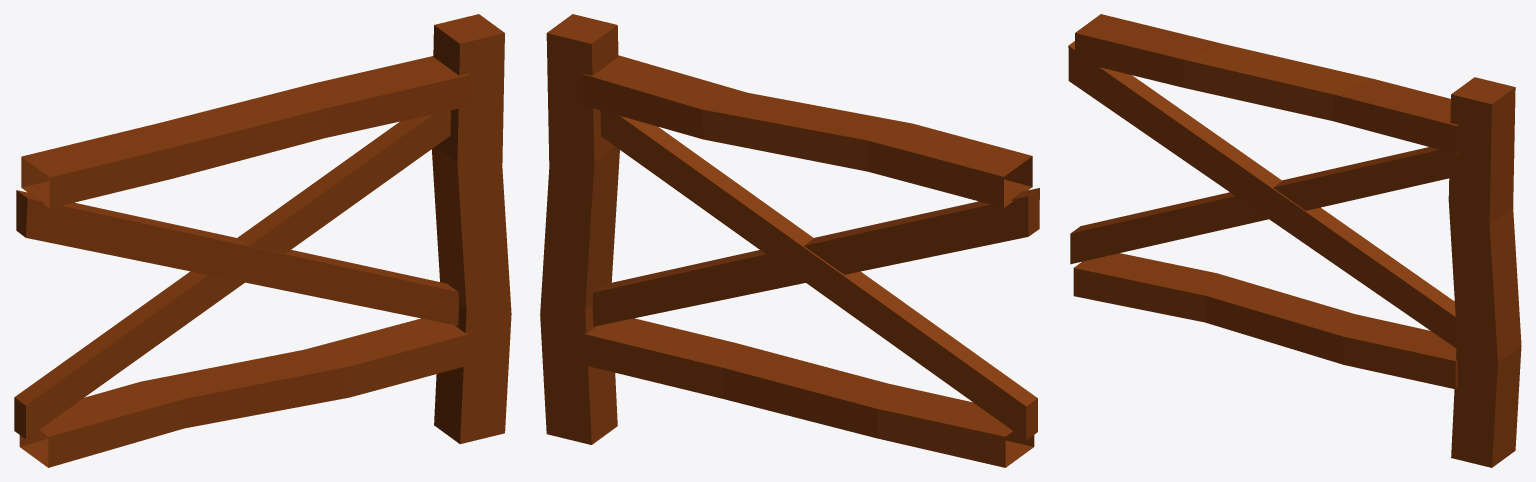
File: mod_fence.fbx
3 views of the same model, side by side, from view 1: azimuth 30°, elevation 25°; view 2: azimuth 150°, elevation 25°; view 3: azimuth 330°, elevation 25° (orthographic). The views are drawn at different scales.
Visible parts, largest first — view 1: Cube.028; view 2: Cube.028; view 3: Cube.028.
Part boxes in pixels (x1,y1,x2,y2): Cube.028: (14, 14, 511, 467); Cube.028: (540, 14, 1039, 467); Cube.028: (1068, 14, 1521, 467).
Size of the model in its own units: 106 by 85 by 13.24.
